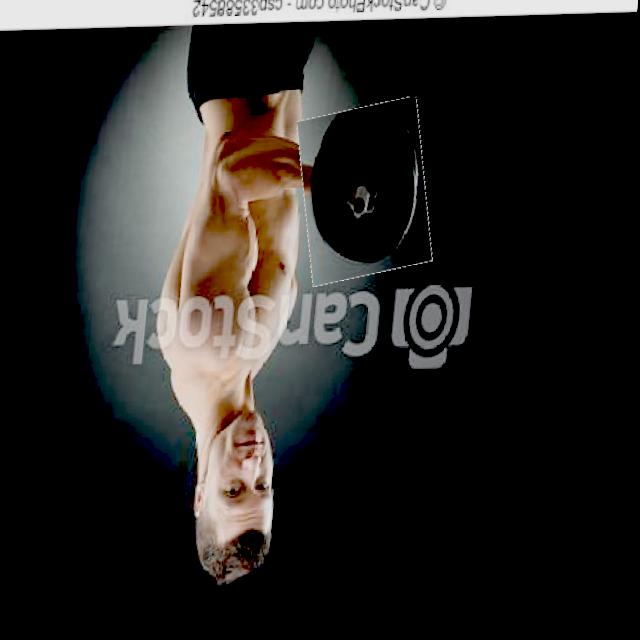barbell: (297, 104, 444, 285)
